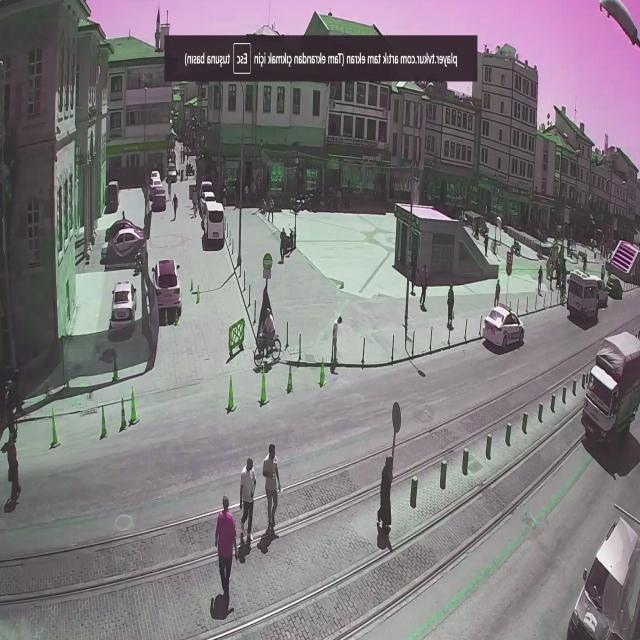Car: (565, 514, 639, 634), (575, 330, 640, 465), (477, 304, 527, 353), (151, 259, 183, 324), (108, 280, 136, 333), (600, 268, 631, 302)
Cycle: (250, 304, 283, 370)
Truck: (562, 272, 607, 322)
Van: (198, 201, 227, 251)
